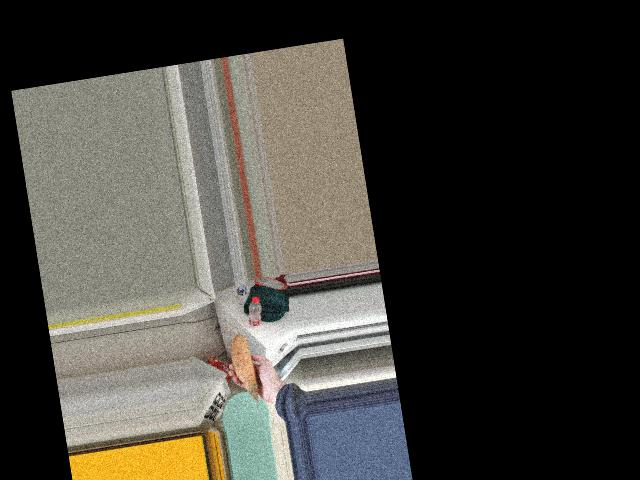sweet_potato: (226, 334, 258, 395)
